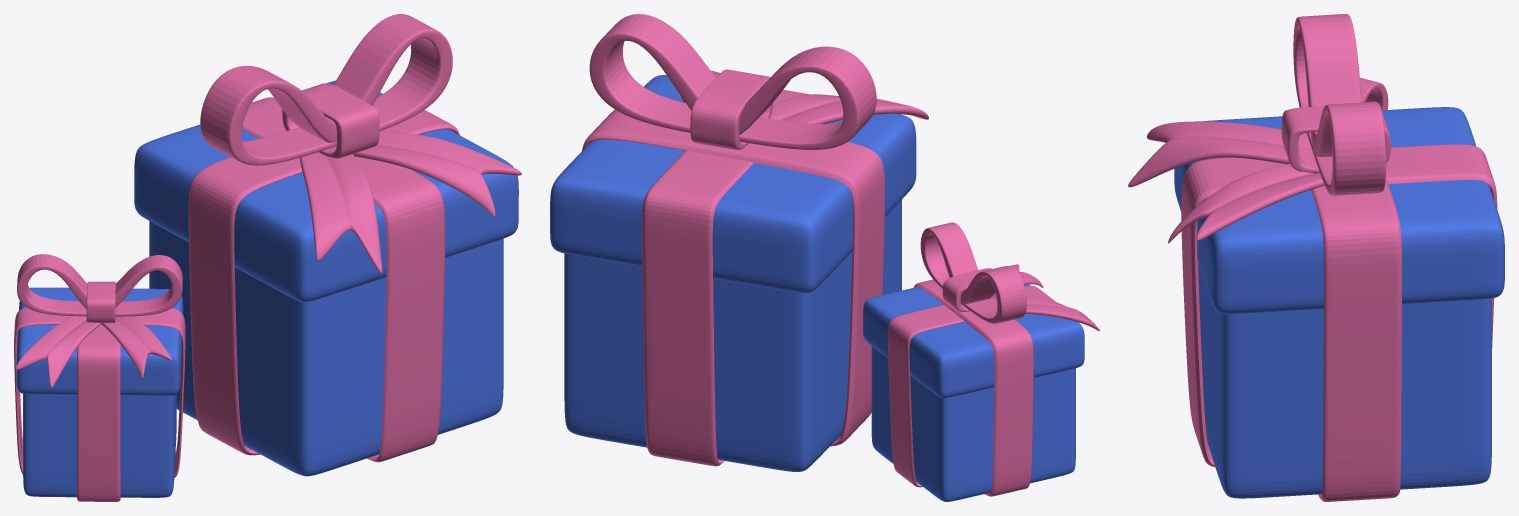
File: GiftBox.fbx
3 renders of one model, left to right at view 1: azimuth 30°, elevation 25°; view 2: azimuth 150°, elevation 25°; view 3: azimuth 270°, elevation 25°, orthographic. The views are drawn at different scales.
Visible parts, largest first — view 1: Cube.012, Cube.013, Cube.015, Cube.016, Cube.014, Cube.011, Cube.008, Cube.010, Plane.005, Plane.004, Cube.007, Cube.017 (+4 smaller); view 2: Cube.012, Cube.013, Cube.015, Cube.016, Cube.011, Cube.014, Cube.010, Cube.009, Cube.007, Cube.008, Cube.017, Plane.005 (+2 smaller); view 3: Cube.012, Cube.013, Cube.014, Cube.016, Cube.015, Plane.005, Plane.004, Cube.017, Cube.007.
Part boxes in pixels (bbox=[...]): Cube.012: bbox=[149, 221, 503, 476]; Cube.013: bbox=[134, 80, 518, 302]; Cube.015: bbox=[242, 97, 445, 462]; Cube.016: bbox=[200, 14, 452, 165]; Cube.014: bbox=[188, 110, 459, 455]; Cube.011: bbox=[23, 393, 176, 497]; Cube.008: bbox=[77, 301, 122, 501]; Cube.010: bbox=[16, 287, 183, 395]; Plane.005: bbox=[299, 152, 382, 273]; Plane.004: bbox=[353, 131, 521, 216]; Cube.007: bbox=[17, 254, 182, 316]; Cube.017: bbox=[282, 83, 379, 158]; Cube.012: bbox=[564, 200, 901, 471]; Cube.013: bbox=[550, 75, 916, 293]; Cube.015: bbox=[642, 89, 810, 466]; Cube.016: bbox=[589, 14, 876, 149]; Cube.011: bbox=[871, 346, 1075, 501]; Cube.014: bbox=[582, 109, 884, 446]; Cube.010: bbox=[863, 284, 1084, 398]; Cube.009: bbox=[914, 279, 1033, 496]; Cube.007: bbox=[920, 222, 1026, 323]; Cube.008: bbox=[888, 285, 1055, 487]; Cube.017: bbox=[690, 69, 773, 149]; Plane.005: bbox=[769, 94, 928, 123]; Cube.012: bbox=[1198, 264, 1491, 498]; Cube.013: bbox=[1174, 107, 1504, 313]; Cube.014: bbox=[1282, 109, 1401, 501]; Cube.016: bbox=[1293, 14, 1386, 195]; Cube.015: bbox=[1181, 144, 1497, 466]; Plane.005: bbox=[1128, 121, 1311, 187]; Plane.004: bbox=[1168, 164, 1324, 243]; Cube.017: bbox=[1281, 106, 1390, 173]; Cube.007: bbox=[1360, 77, 1388, 110].
Size of the model in its own units: 403 by 303 by 266.
